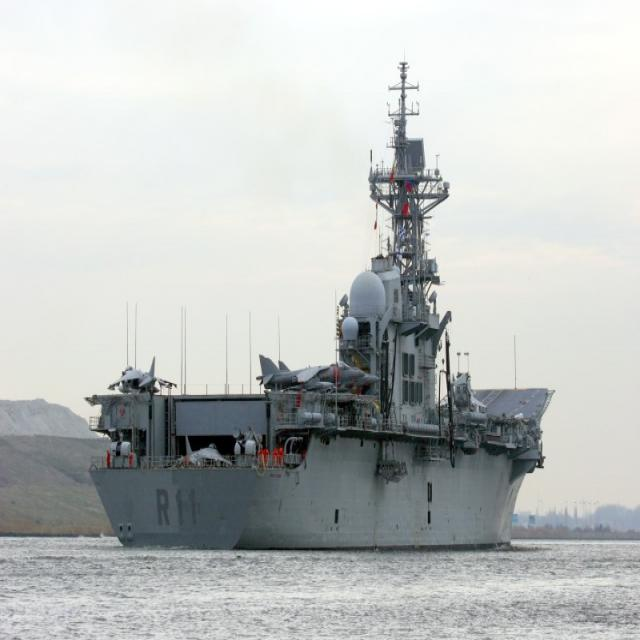Portanaves: (85, 58, 559, 555)
